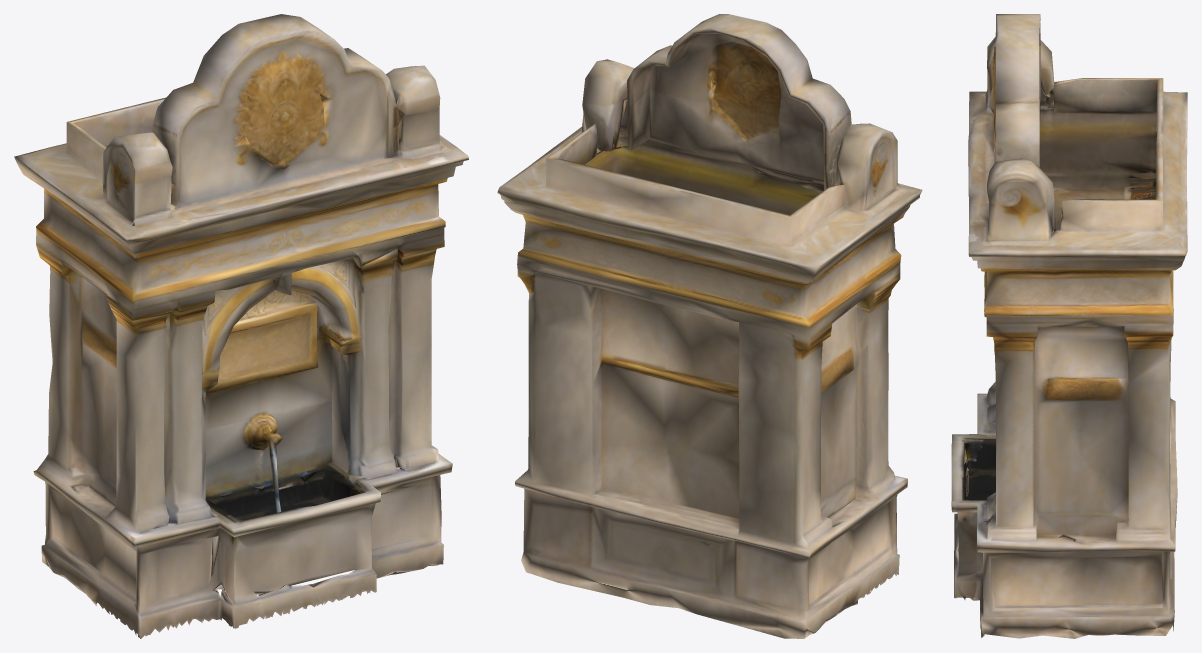
The model's file is asset.glb.
The picture shows the model from 3 angles, left to right: view 1: azimuth 30°, elevation 25°; view 2: azimuth 150°, elevation 25°; view 3: azimuth 270°, elevation 25°; orthographic projection. The views are drawn at different scales.
Bounding box in the file's own units: 1.28 × 2.01 × 0.7935.
Materials: 1 (1 with a texture image).
